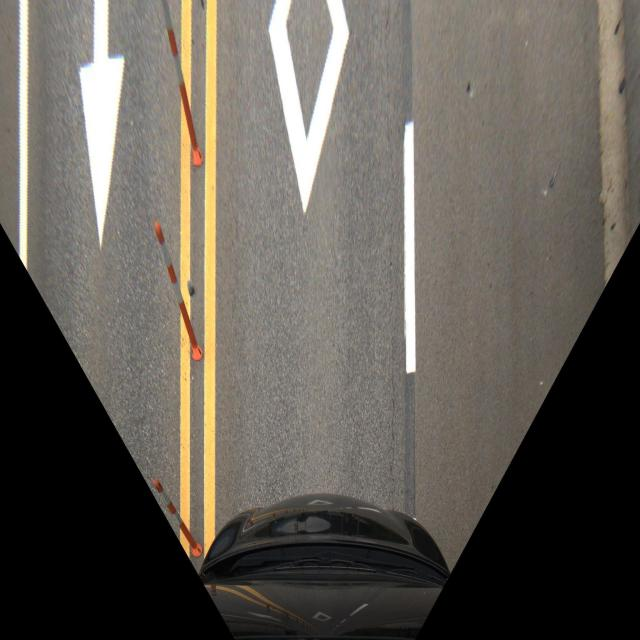diamond: (208, 0, 412, 217)
